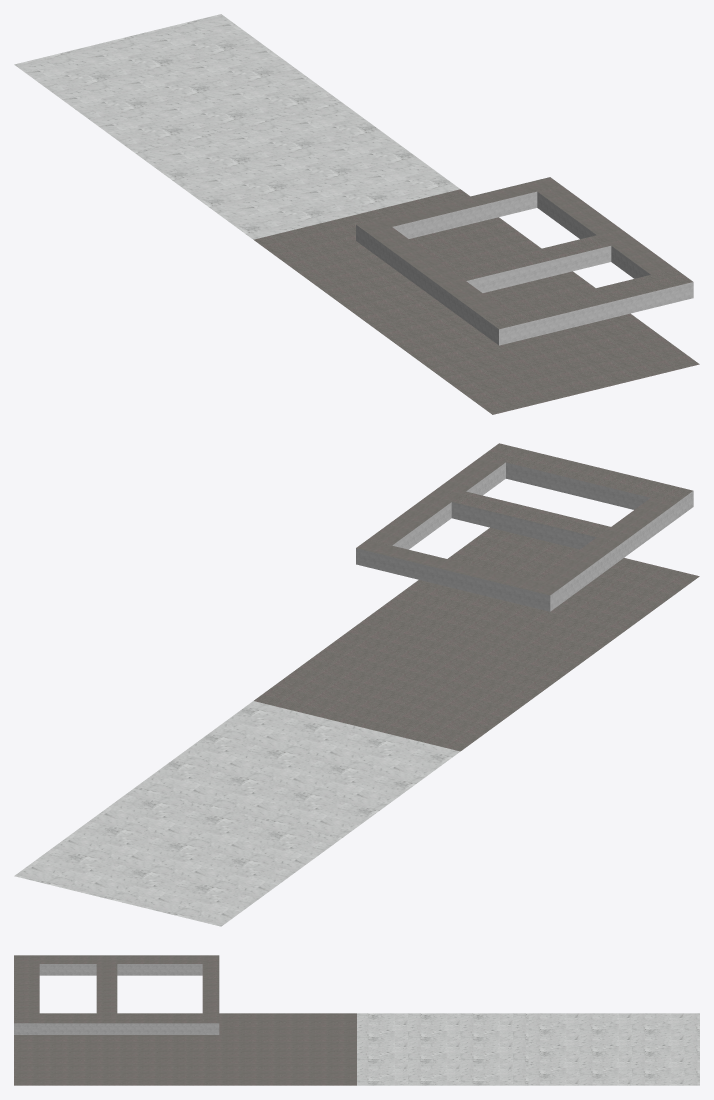
Rendered from Floor_TopFloor.fbx.
The picture shows the model from 3 angles, top to bottom: view 1: azimuth 30°, elevation 25°; view 2: azimuth 150°, elevation 25°; view 3: azimuth 270°, elevation 25°; orthographic projection. The views are drawn at different scales.
Parts seen in each view (by area): view 1: Floor, TopFloor; view 2: Floor, TopFloor; view 3: Floor, TopFloor.
Boxes of the visible parts, <box> form: Floor: <box>14,14,699,414</box>; TopFloor: <box>356,177,693,345</box>; Floor: <box>14,527,699,926</box>; TopFloor: <box>356,443,693,611</box>; Floor: <box>14,1013,699,1085</box>; TopFloor: <box>14,955,219,1034</box>.
Bounding box in the file's own units: 2000 × 775 × 8000.
Materials: 4 (4 with a texture image).
